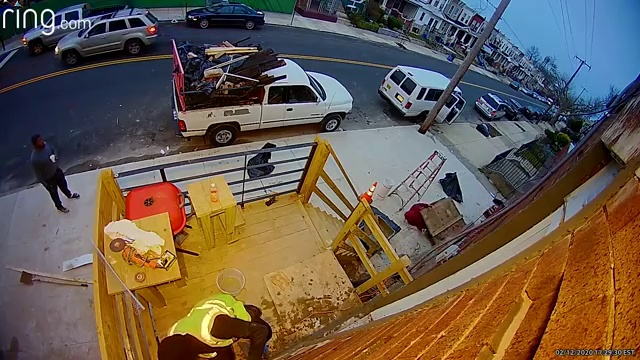face: (35, 138, 44, 148)
